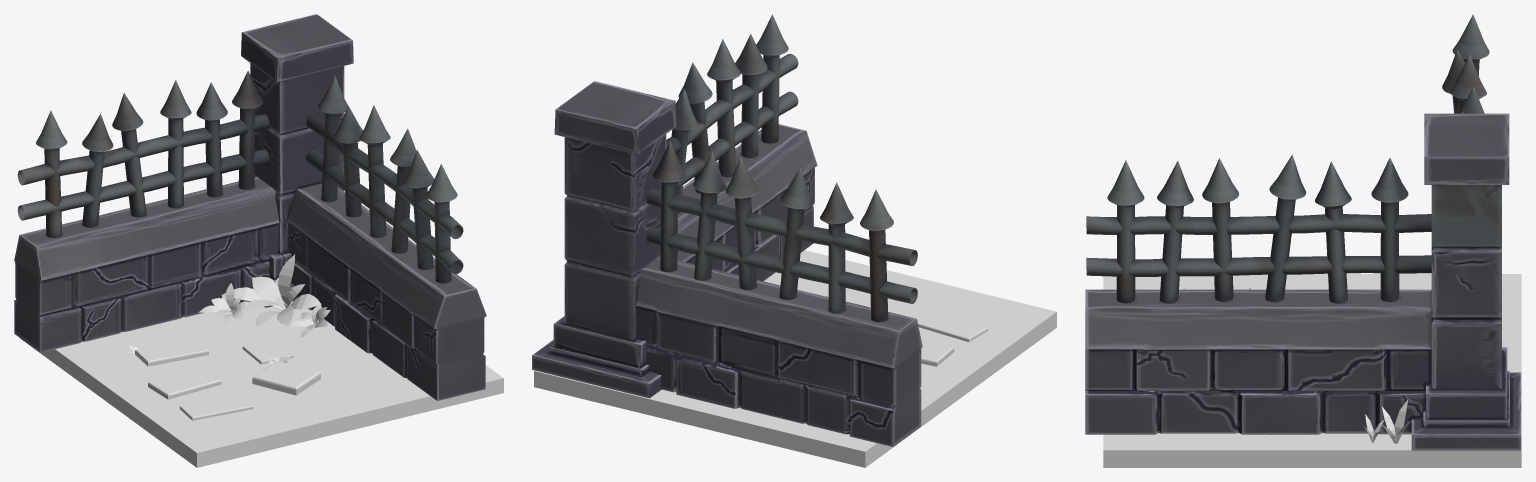
The model's file is GraveyardFenceFRCornerfbx 2.fbx.
3 views of the same model, side by side, from view 1: azimuth 30°, elevation 25°; view 2: azimuth 150°, elevation 25°; view 3: azimuth 270°, elevation 25° (orthographic). The views are drawn at different scales.
Parts seen in each view (by area): view 1: StoneFenceCorner_LP.001, CornerGround_LP; view 2: StoneFenceCorner_LP.001, CornerGround_LP; view 3: StoneFenceCorner_LP.001, CornerGround_LP.
Boxes of the visible parts, <box> form: StoneFenceCorner_LP.001: <box>14,14,486,400</box>; CornerGround_LP: <box>20,254,503,467</box>; StoneFenceCorner_LP.001: <box>532,14,922,446</box>; CornerGround_LP: <box>534,250,1056,467</box>; StoneFenceCorner_LP.001: <box>1085,14,1521,450</box>; CornerGround_LP: <box>1103,274,1521,467</box>.
Size of the model in its own units: 220 by 164 by 214.
